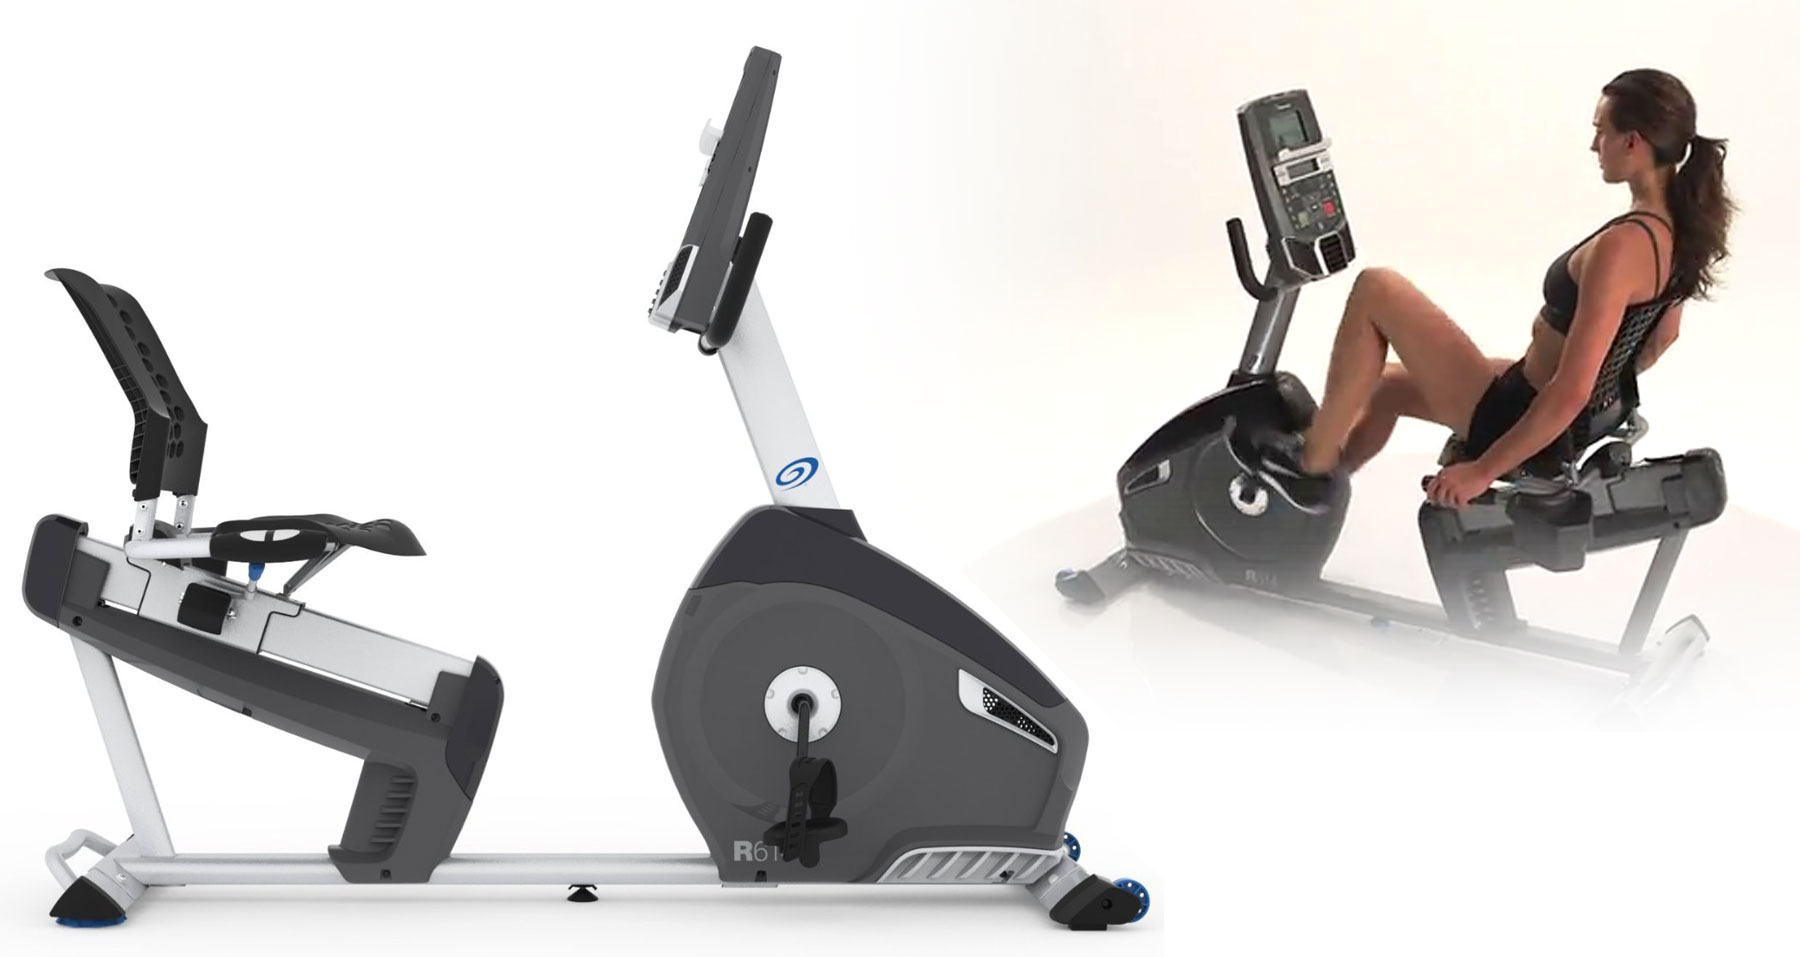gym_bike: (1031, 64, 1726, 734)
